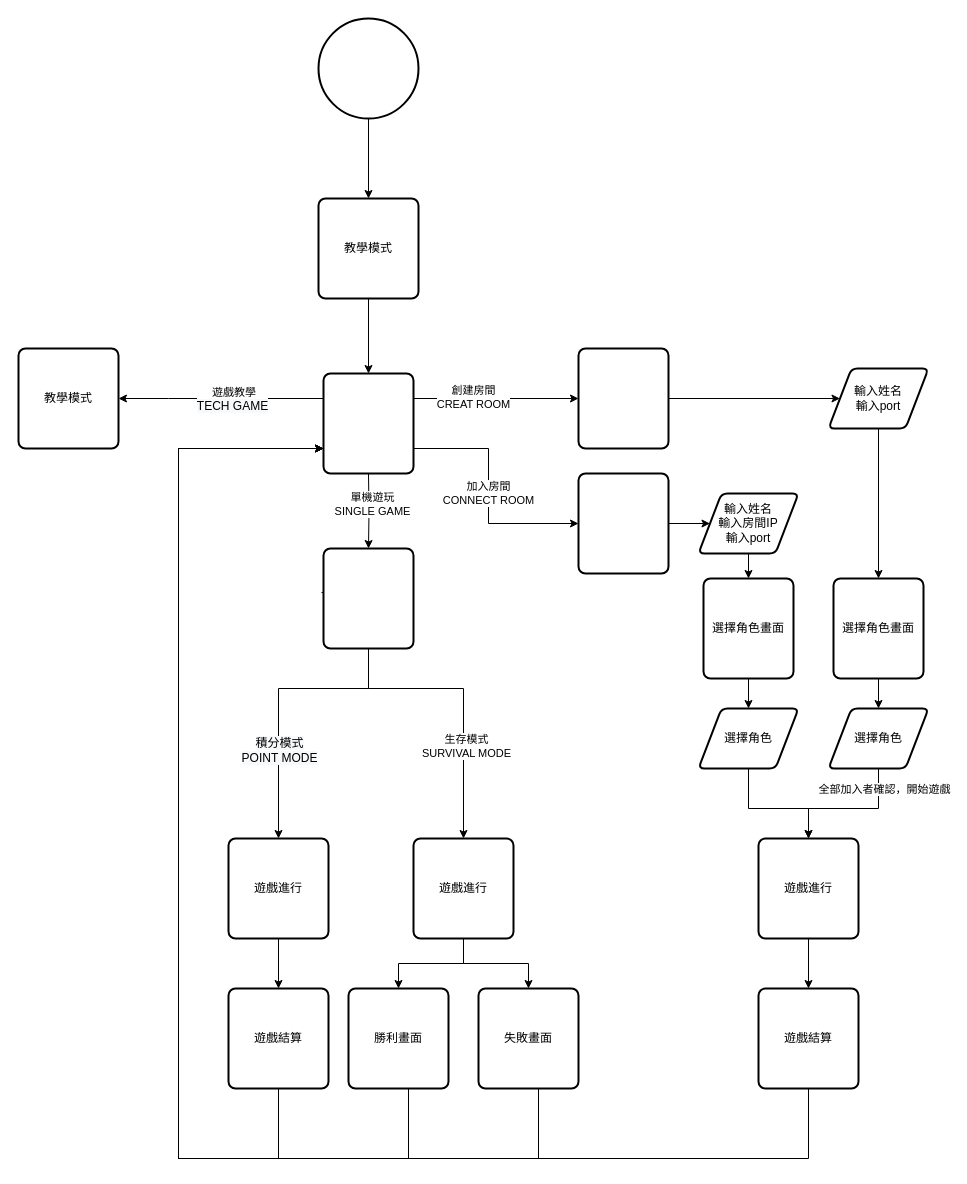
Some shapes in this 967 by 1184 pixel diagram are drawn without their labels. The box of each missing label's shape, as (x1, y1, x2, y2) in pixels:
主選單 MENU: (322, 372, 414, 474)
加入房間畫面: (577, 472, 669, 574)
單機選擇畫面: (322, 547, 414, 649)
房間創建畫面: (577, 347, 669, 449)
程式開始: (317, 17, 419, 119)
